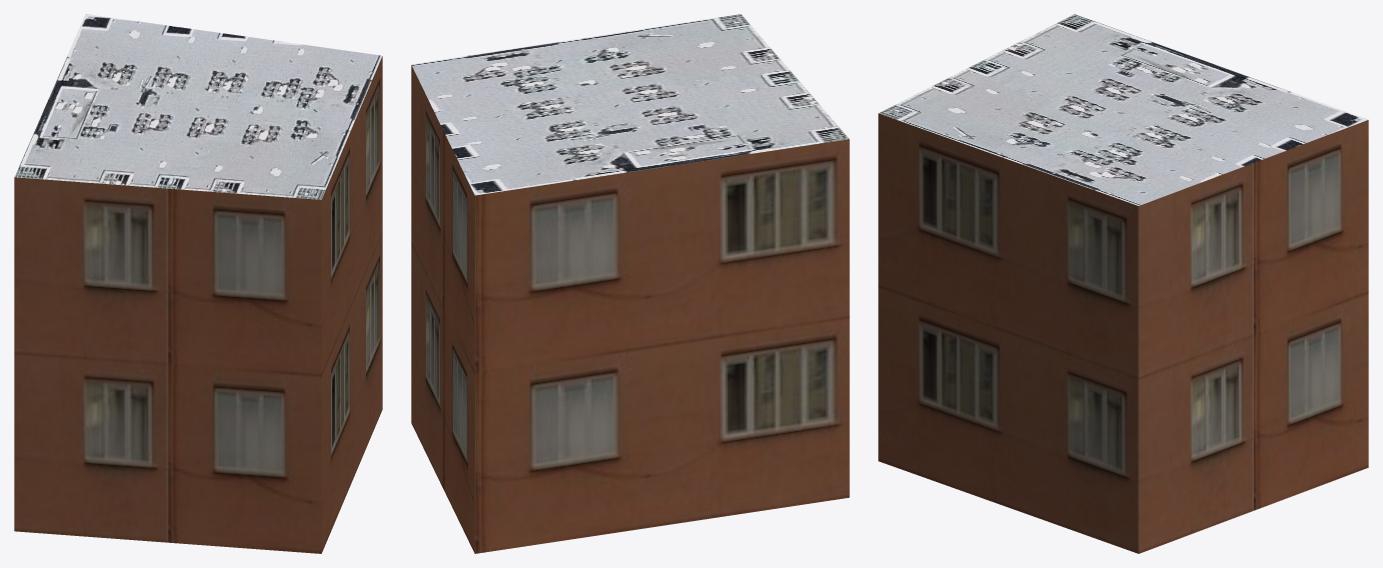
The model's file is ResTex__675.fbx.
The picture shows the model from 3 angles, left to right: view 1: azimuth 30°, elevation 25°; view 2: azimuth 150°, elevation 25°; view 3: azimuth 270°, elevation 25°; orthographic projection. The views are drawn at different scales.
Parts seen in each view (by area): view 1: CityEngineMaterial_20_m, CityEngineMaterial_8_m; view 2: CityEngineMaterial_20_m, CityEngineMaterial_8_m; view 3: CityEngineMaterial_20_m, CityEngineMaterial_8_m.
Part boxes in pixels (x1,y1,x2,y2): CityEngineMaterial_20_m: [14, 56, 382, 553]; CityEngineMaterial_8_m: [14, 14, 382, 199]; CityEngineMaterial_20_m: [411, 65, 849, 553]; CityEngineMaterial_8_m: [411, 14, 849, 195]; CityEngineMaterial_20_m: [878, 113, 1368, 553]; CityEngineMaterial_8_m: [878, 14, 1368, 205].
Size of the model in its own units: 7.11 by 6 by 7.66.
Materials: 2 (2 with a texture image).
